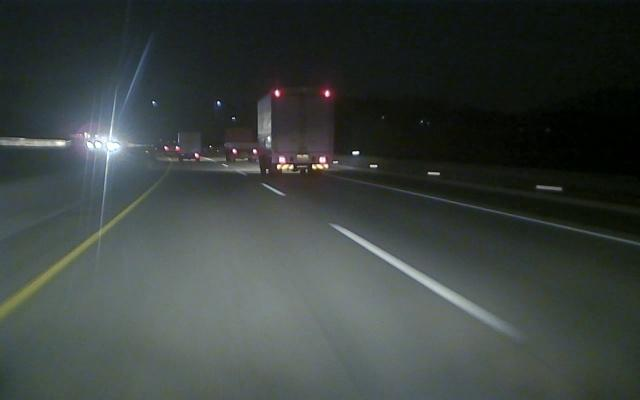lane: (265, 184, 534, 341), (378, 184, 640, 248), (1, 202, 135, 319)
